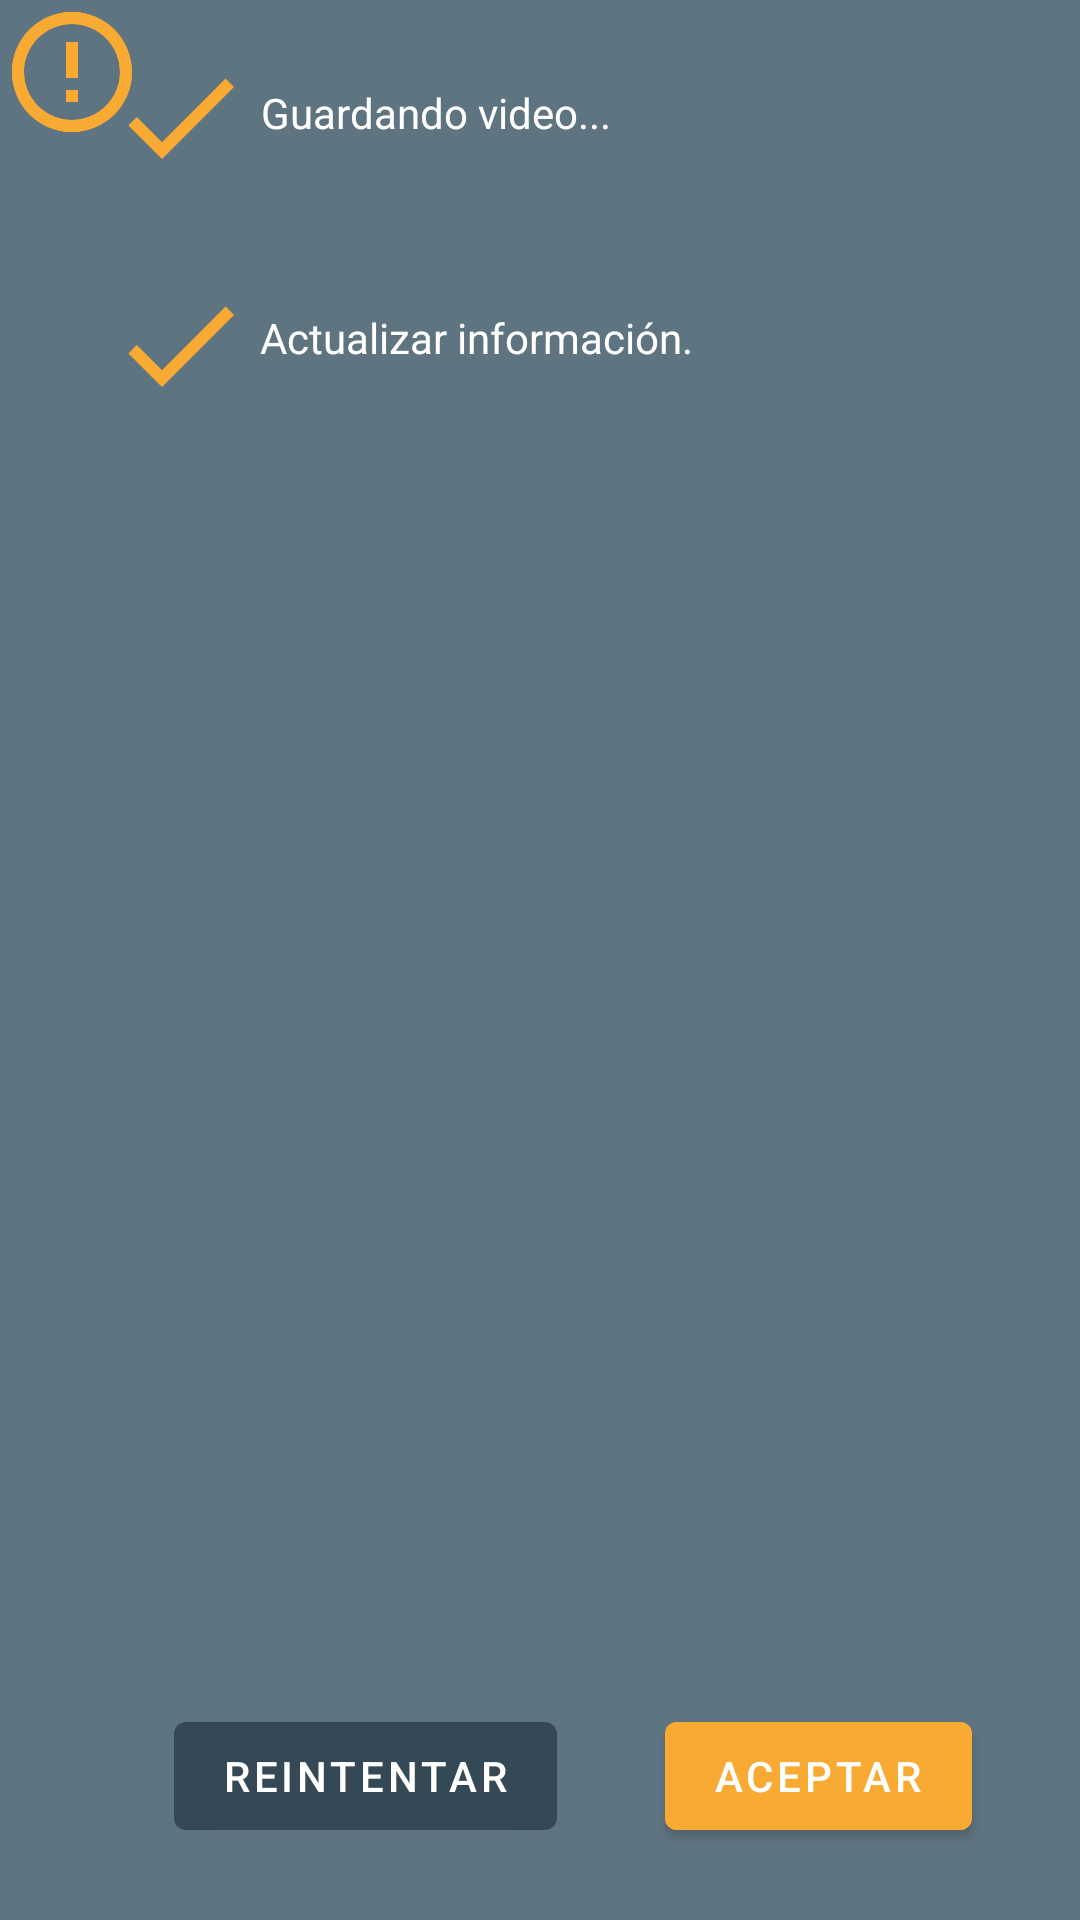

Icons on this 1080 × 1920 Android screen, each with its box as (x1, y1, x2, y2):
done secondary: (128, 78, 234, 159), (128, 306, 234, 387)
